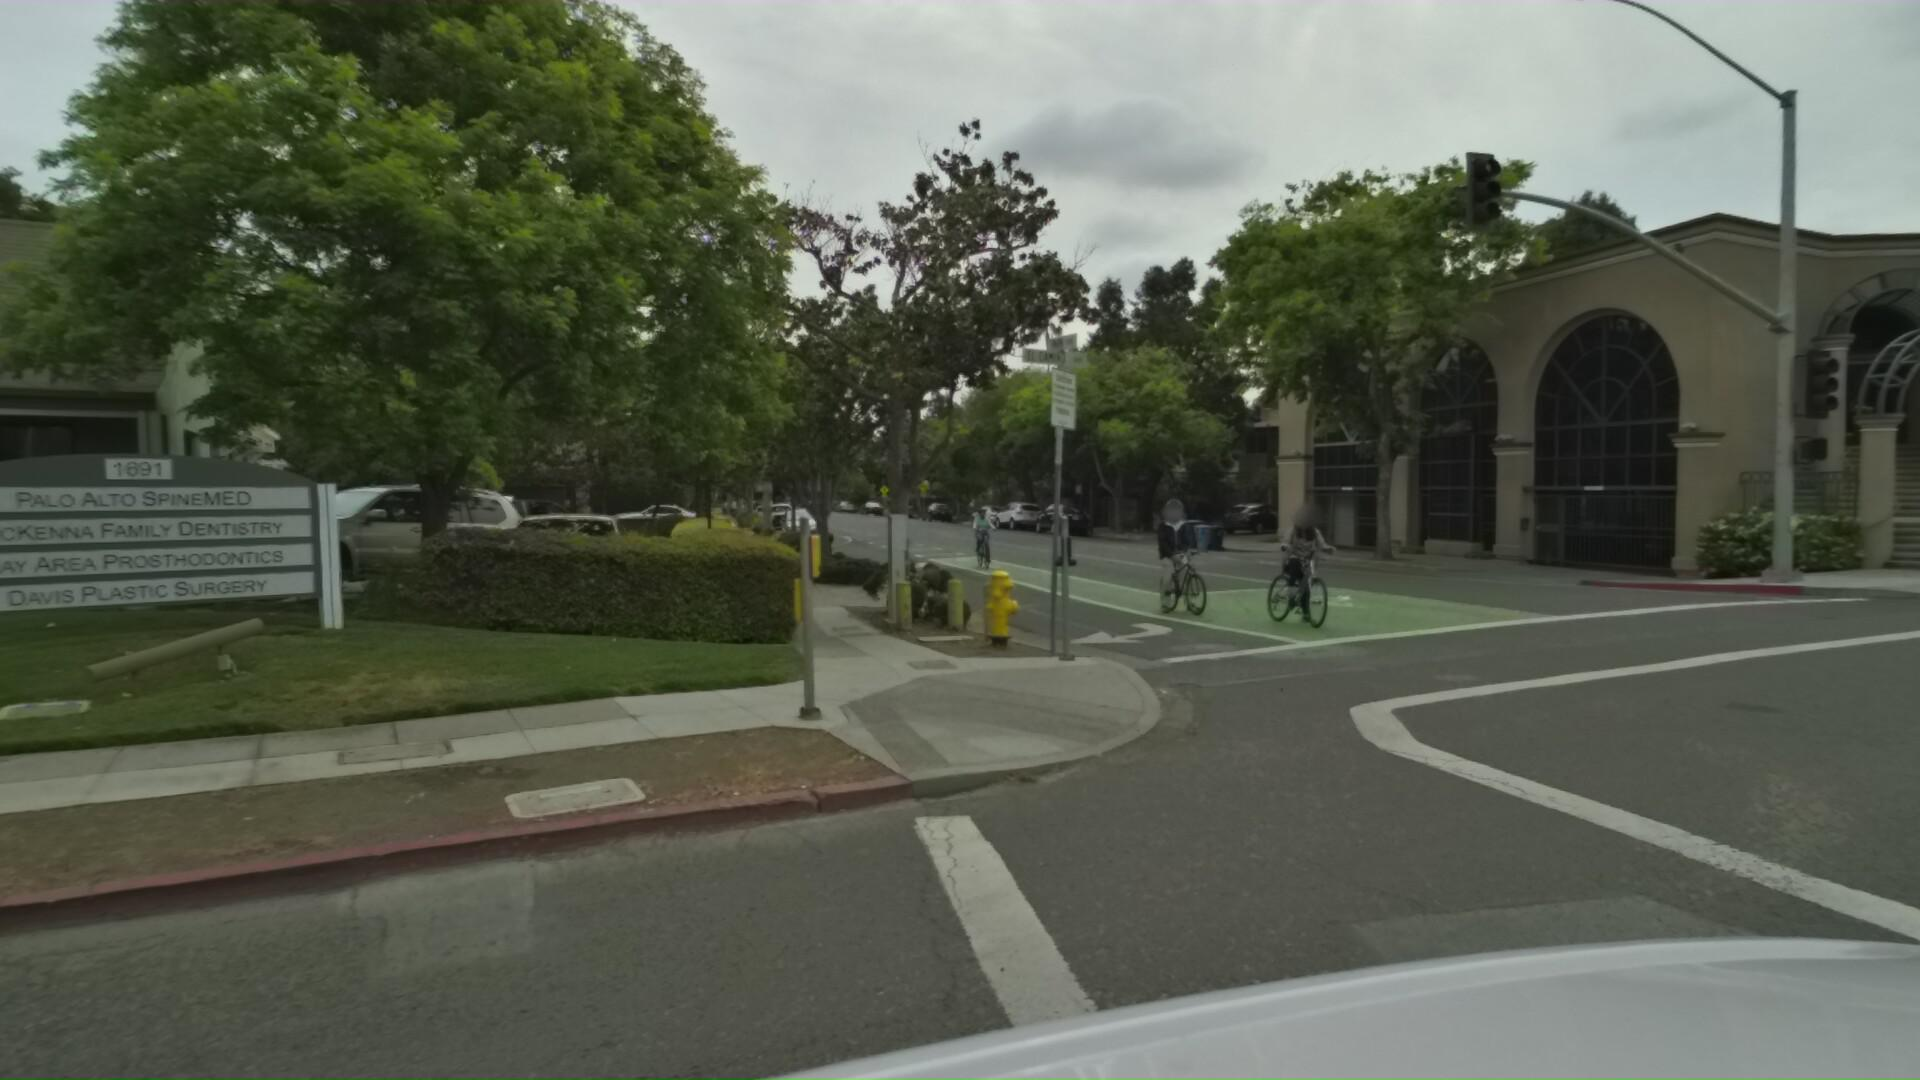bicycle: (1276, 498, 1393, 632), (1163, 493, 1253, 616), (980, 504, 1022, 568)
car: (233, 480, 582, 592), (502, 501, 673, 641), (462, 495, 612, 549), (1222, 496, 1302, 531), (1040, 497, 1100, 533), (996, 496, 1052, 527), (789, 502, 832, 539), (975, 498, 1023, 527), (774, 498, 803, 527), (923, 500, 957, 521)
